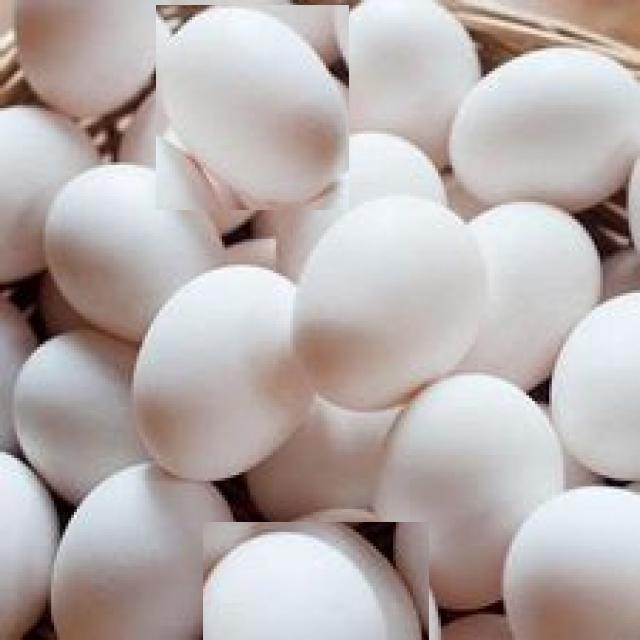Egg: (290, 186, 506, 420), (128, 235, 306, 492), (156, 5, 349, 210), (203, 522, 429, 640)
